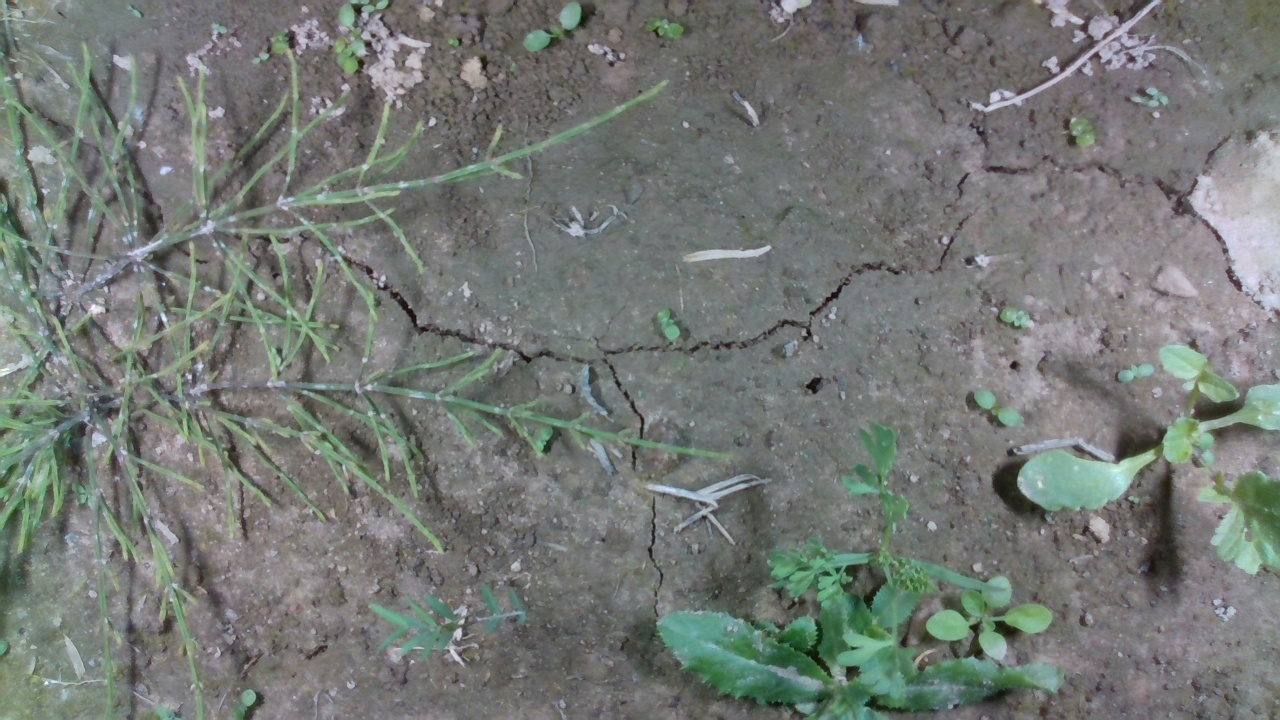weed: (969, 386, 1022, 431), (1002, 302, 1060, 333), (1065, 112, 1101, 153), (651, 303, 686, 342), (1119, 358, 1156, 390)
